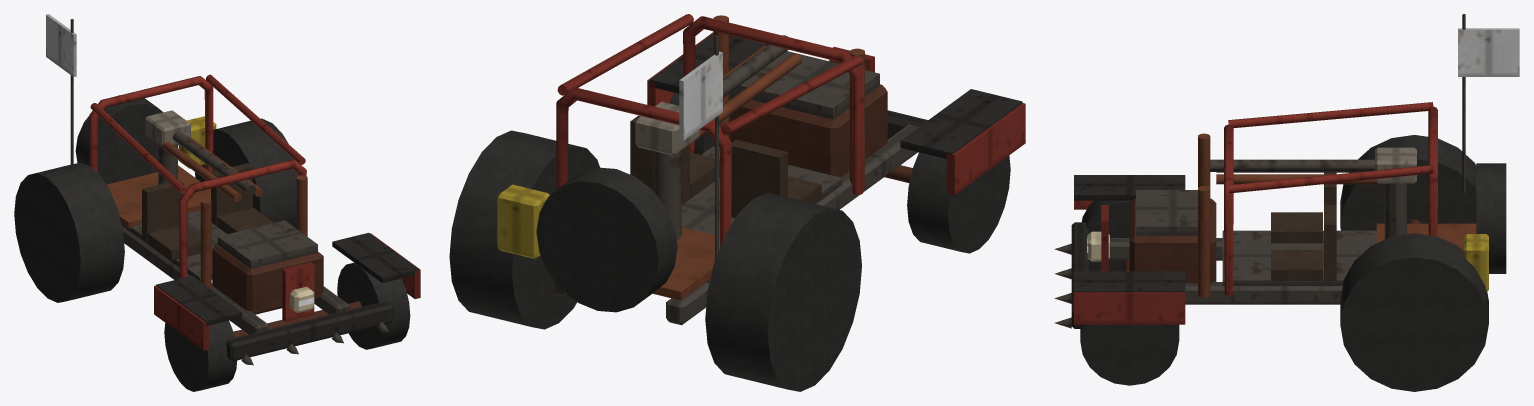
3 renders of one model, left to right at view 1: azimuth 30°, elevation 25°; view 2: azimuth 150°, elevation 25°; view 3: azimuth 270°, elevation 25°, orthographic. The views are drawn at different scales.
Parts seen in each view (by area): view 1: raider_vehicle_buggy; view 2: raider_vehicle_buggy; view 3: raider_vehicle_buggy.
Boxes of the visible parts, box(x1,y1,x2,y2) form: raider_vehicle_buggy: box(14, 14, 420, 391); raider_vehicle_buggy: box(449, 14, 1025, 391); raider_vehicle_buggy: box(1054, 14, 1519, 391).
Bounding box in the file's own units: 2.34 × 2.5 × 3.76.
12 materials, 12 textured.
